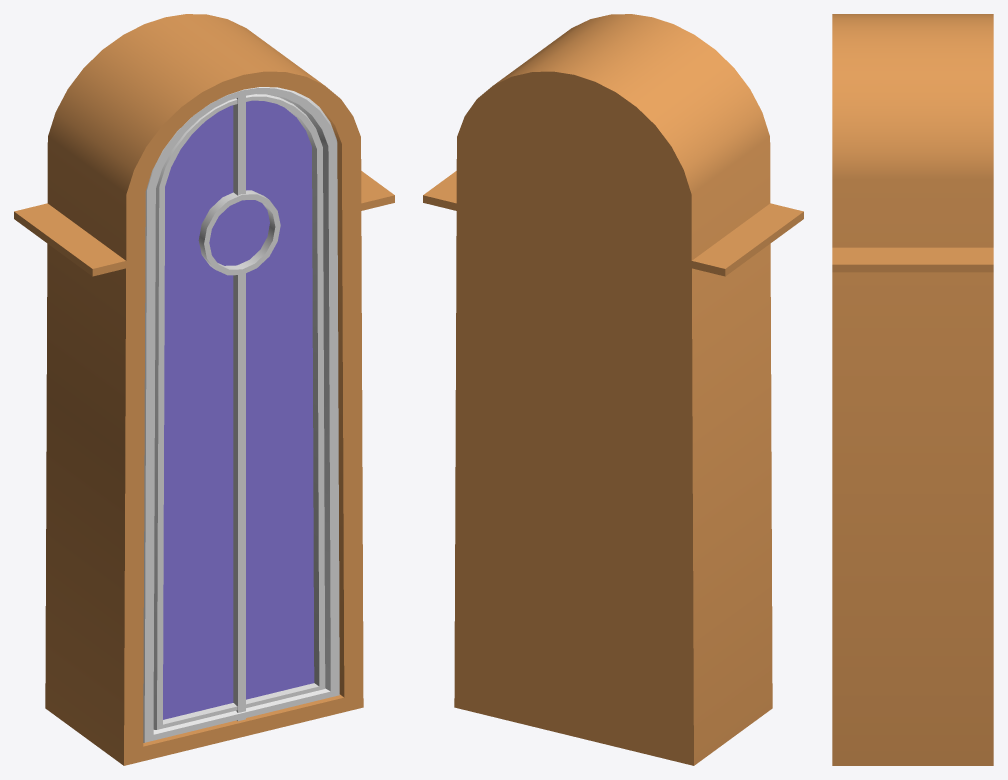
The model's file is SP_House13_Window01.fbx.
3 views of the same model, side by side, from view 1: azimuth 30°, elevation 25°; view 2: azimuth 150°, elevation 25°; view 3: azimuth 270°, elevation 25° (orthographic). The views are drawn at different scales.
Visible parts, largest first — view 1: SP_House13_Window01; view 2: SP_House13_Window01; view 3: SP_House13_Window01.
Part boxes in pixels (x1,y1,x2,y2): SP_House13_Window01: [14, 14, 394, 765]; SP_House13_Window01: [423, 14, 803, 765]; SP_House13_Window01: [832, 14, 993, 765].
Size of the model in its own units: 1.65 by 3.46 by 0.7439.
